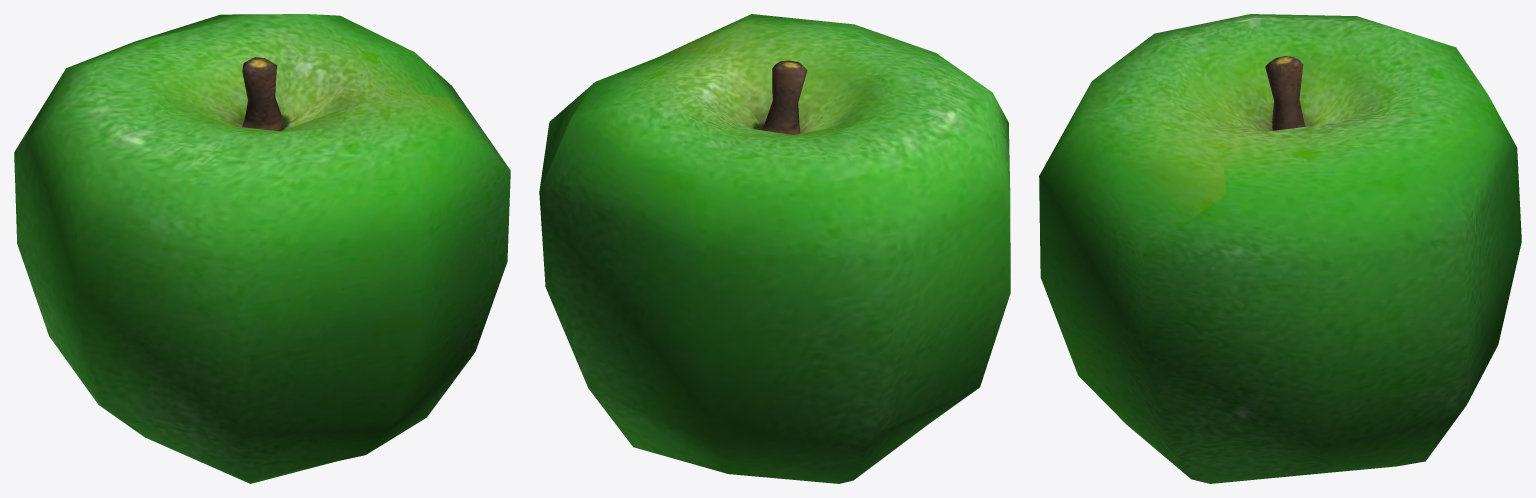
Rendered from apple.fbx.
The picture shows the model from 3 angles, left to right: view 1: azimuth 30°, elevation 25°; view 2: azimuth 150°, elevation 25°; view 3: azimuth 270°, elevation 25°; orthographic projection. The views are drawn at different scales.
Visible parts, largest first — view 1: node_id26; view 2: node_id26; view 3: node_id26.
Part boxes in pixels (box(x1,y1,x2,y2)): node_id26: box(14, 14, 510, 483); node_id26: box(539, 14, 1010, 483); node_id26: box(1039, 14, 1521, 483).
Size of the model in its own units: 0.1425 by 0.1232 by 0.1403.
1 material, 1 textured.
